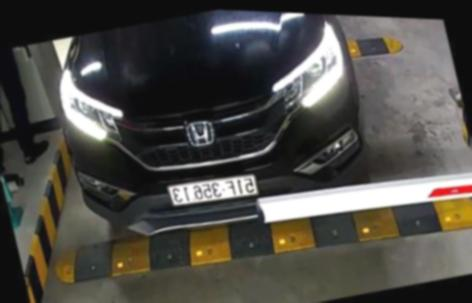License_Plate: (162, 157, 268, 224)
